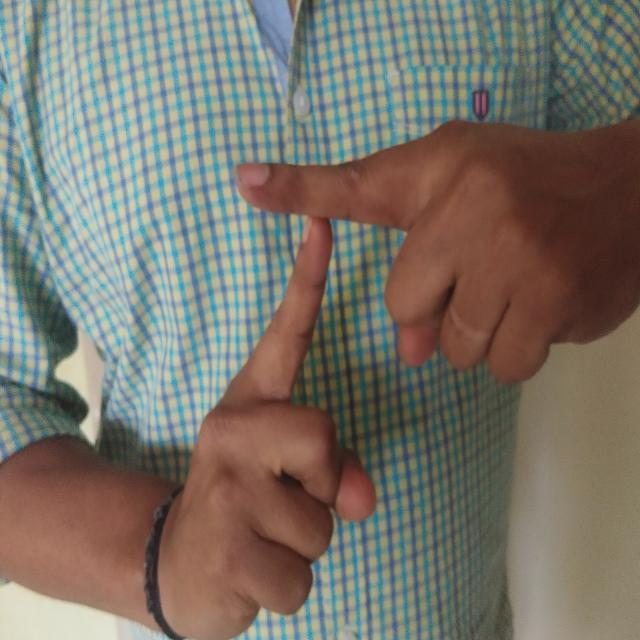T: (168, 96, 611, 640)
